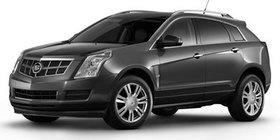car: (8, 1, 272, 134)
